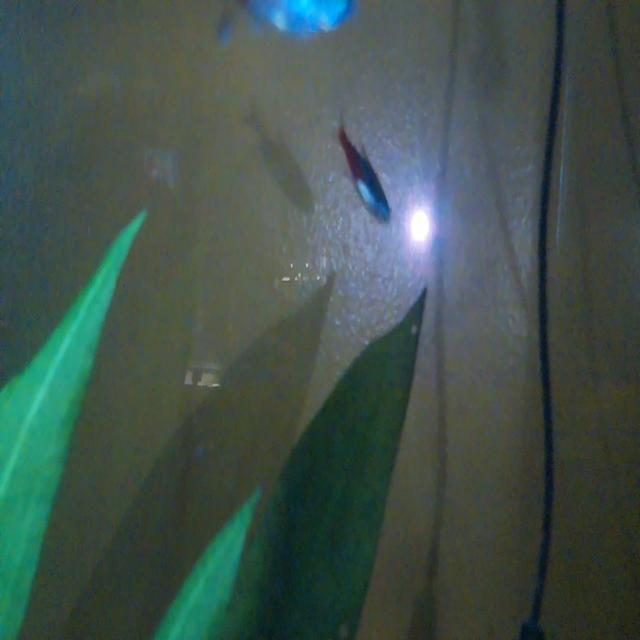fish: (326, 113, 396, 230)
